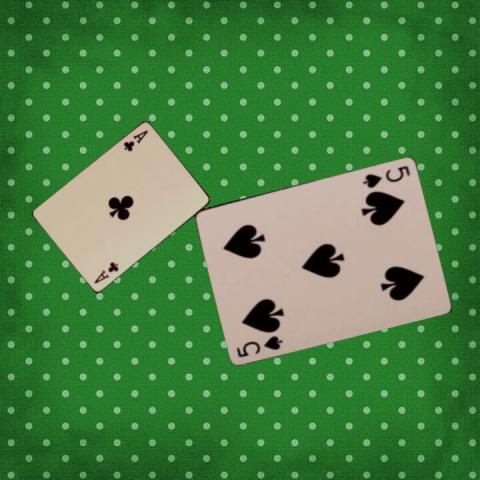5s: (360, 162, 412, 189), (233, 332, 285, 359)
Ac: (91, 260, 120, 286), (121, 128, 149, 154)
